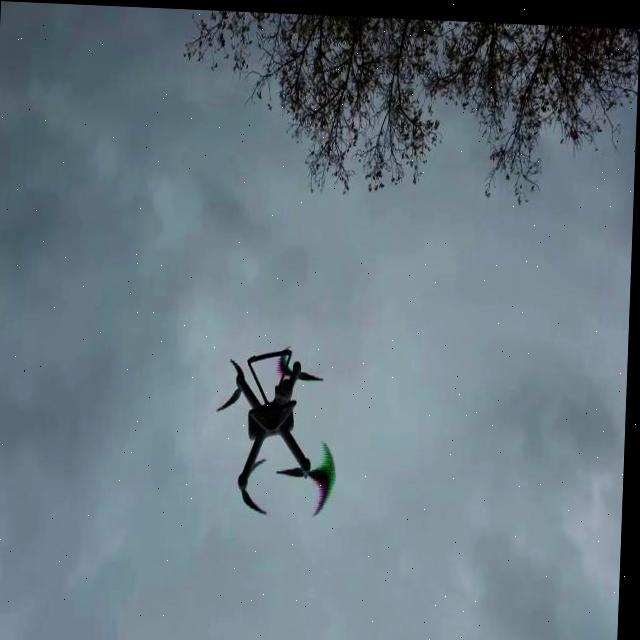drone: (214, 336, 347, 522)
